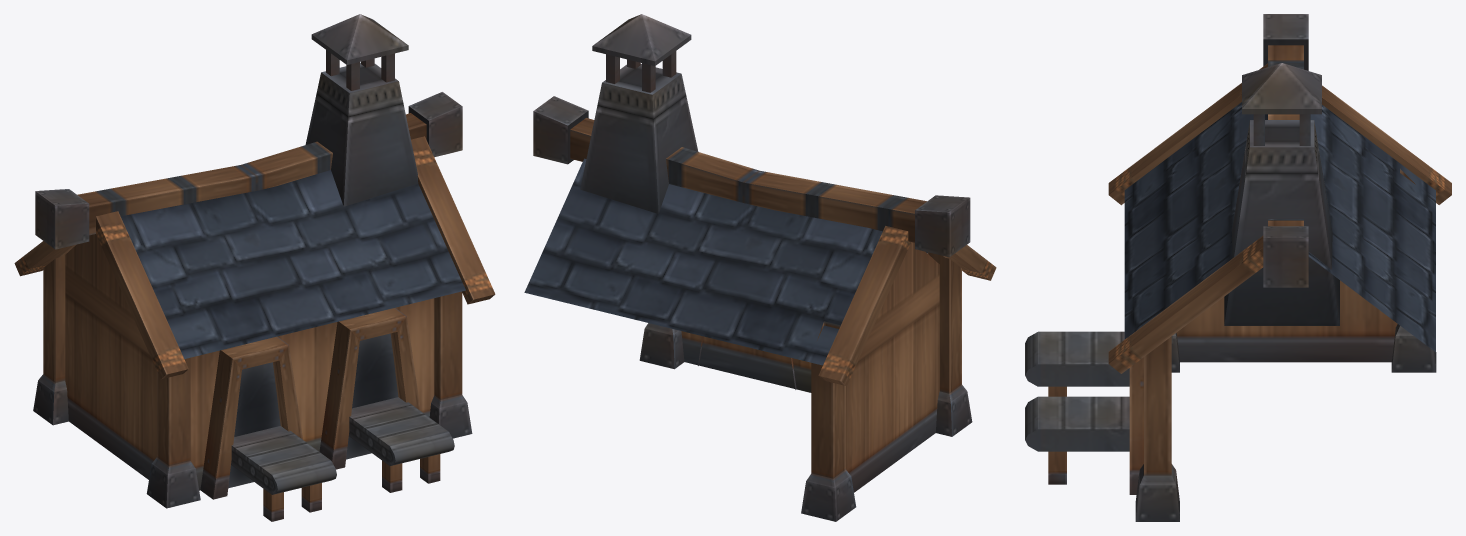
File: mine_prop_5.FBX
3 views of the same model, side by side, from view 1: azimuth 30°, elevation 25°; view 2: azimuth 150°, elevation 25°; view 3: azimuth 270°, elevation 25° (orthographic). The views are drawn at different scales.
Visible parts, largest first — view 1: mine_prop_5; view 2: mine_prop_5; view 3: mine_prop_5.
Part boxes in pixels (box(x1,y1,x2,y2)): mine_prop_5: box(14, 14, 495, 521); mine_prop_5: box(524, 14, 996, 521); mine_prop_5: box(1025, 14, 1451, 521).
Size of the model in its own units: 148 by 134 by 119.
